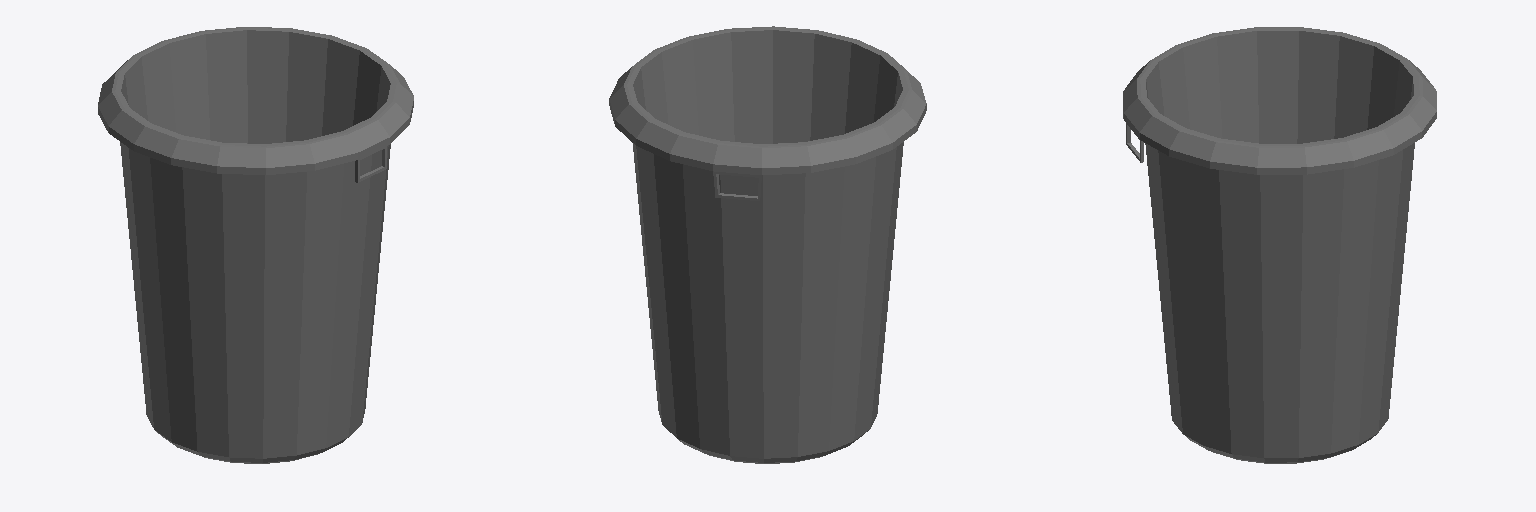
The model's file is Dustbin.obj.
3 renders of one model, left to right at view 1: azimuth 30°, elevation 25°; view 2: azimuth 150°, elevation 25°; view 3: azimuth 270°, elevation 25°, orthographic.
Visible parts, largest first — view 1: polySurface7897; view 2: polySurface7897; view 3: polySurface7897.
Part boxes in pixels (bbox=[...]): polySurface7897: bbox=[98, 27, 413, 463]; polySurface7897: bbox=[609, 26, 926, 463]; polySurface7897: bbox=[1123, 27, 1436, 463].
Size of the model in its own units: 217 by 257 by 217.